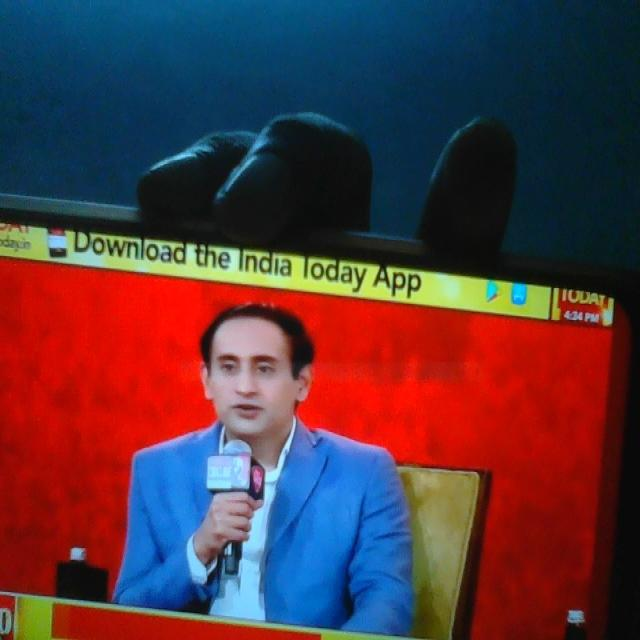fake: (200, 268, 306, 469)
